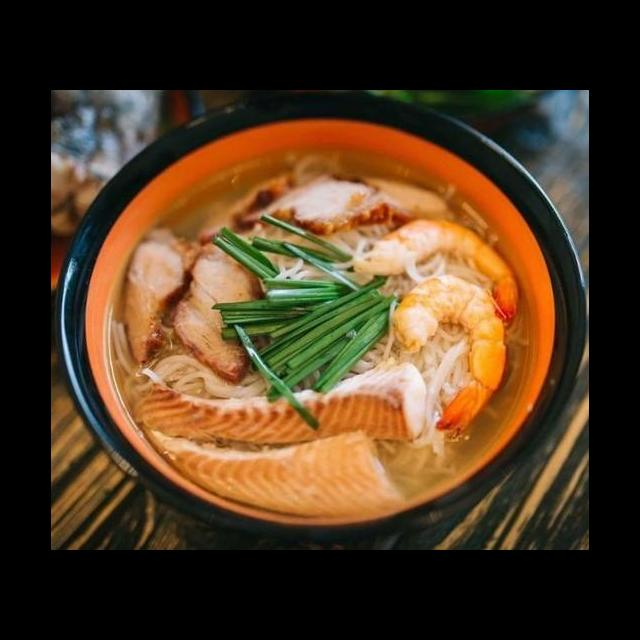bun: (108, 317, 271, 402), (397, 318, 476, 484)
ca: (135, 351, 435, 448), (144, 418, 413, 525)
thit heo quay: (166, 229, 258, 386), (116, 218, 203, 374), (235, 169, 395, 238)
tom: (388, 270, 510, 441), (351, 208, 524, 324)
